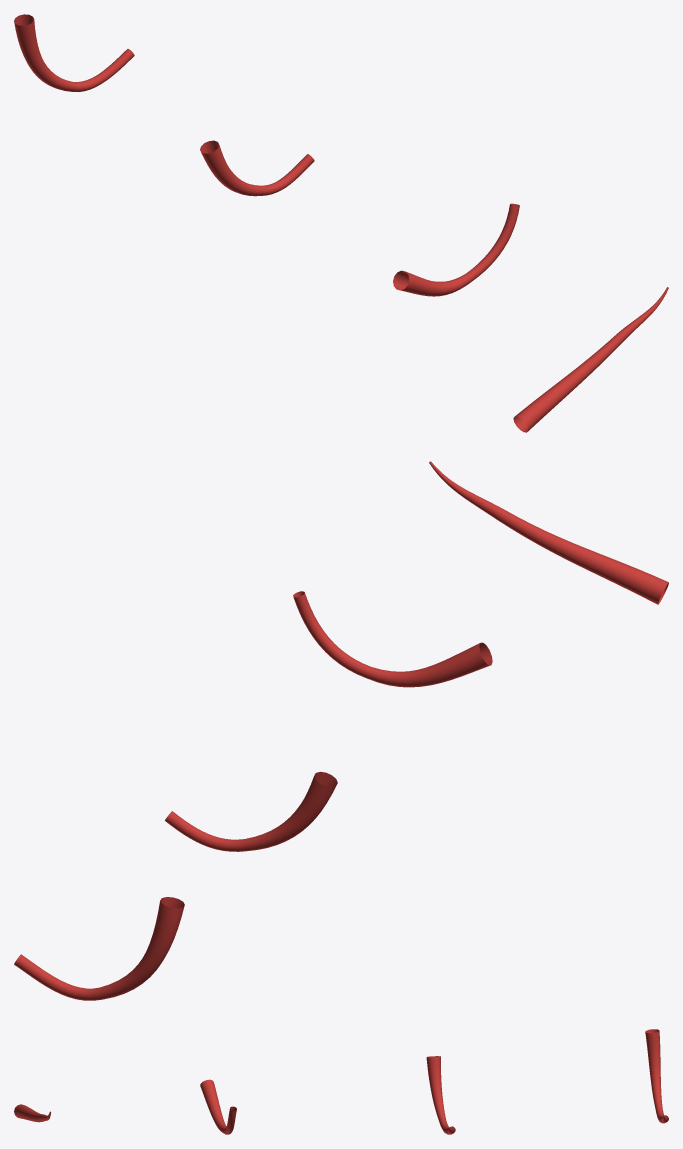
3 renders of one model, top to bottom at view 1: azimuth 30°, elevation 25°; view 2: azimuth 150°, elevation 25°; view 3: azimuth 270°, elevation 25°, orthographic. The views are drawn at different scales.
Parts seen in each view (by area): view 1: 左侧股穿动脉; view 2: 左侧股穿动脉; view 3: 左侧股穿动脉.
Part boxes in pixels (box(x1,y1,x2,y2)): 左侧股穿动脉: box(14, 14, 668, 432); 左侧股穿动脉: box(14, 461, 668, 1000); 左侧股穿动脉: box(14, 1029, 668, 1134).
Bounding box in the file's own units: 0.0759 × 0.0318 × 0.2684.
